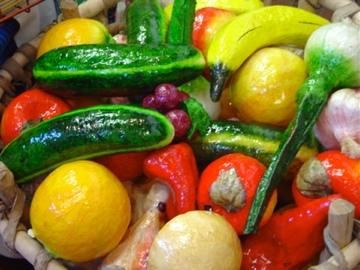banana: (206, 5, 332, 102), (163, 0, 266, 22)
grape: (154, 84, 182, 112), (165, 109, 192, 138), (142, 93, 160, 108), (179, 91, 189, 101)
onion: (243, 16, 360, 234), (146, 210, 243, 270), (314, 88, 360, 158)
tomato: (198, 153, 278, 236), (142, 142, 198, 220), (3, 88, 74, 146), (292, 150, 360, 208), (192, 7, 236, 82), (88, 150, 156, 182)
vegetable marrow: (5, 105, 174, 184), (31, 44, 206, 100), (187, 120, 318, 184), (126, 1, 170, 107), (168, 1, 195, 46)
